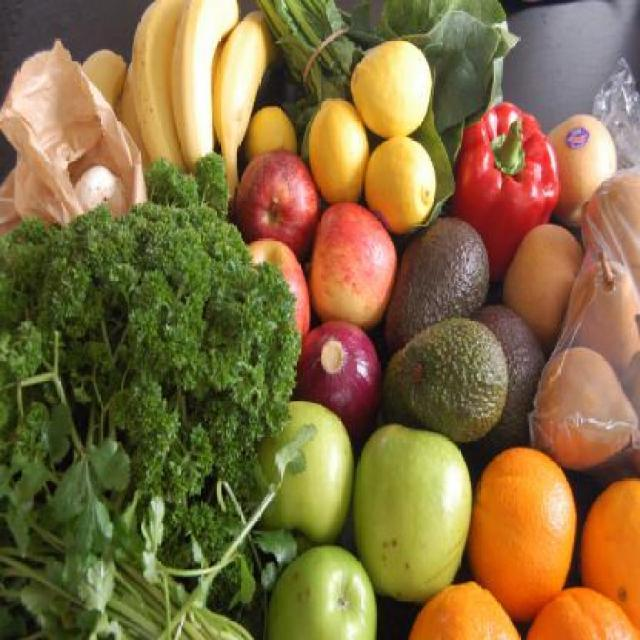Orange: (466, 447, 576, 624), (580, 480, 640, 628), (410, 578, 521, 640), (527, 586, 640, 638)
